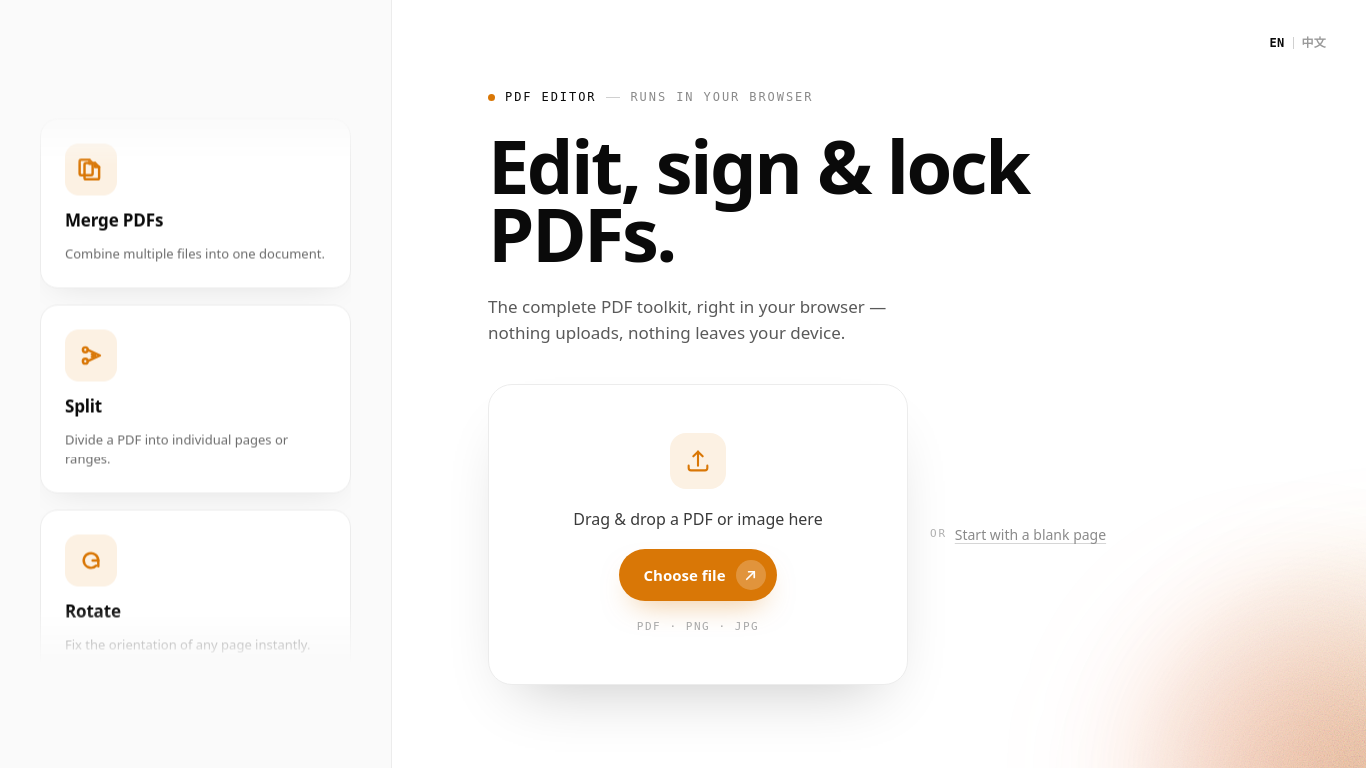
Test: Landing › switches to Chinese when 中文 toggle is clicked
Click the button "中文".
click(1314, 43)  # box [1302, 32, 1326, 54]
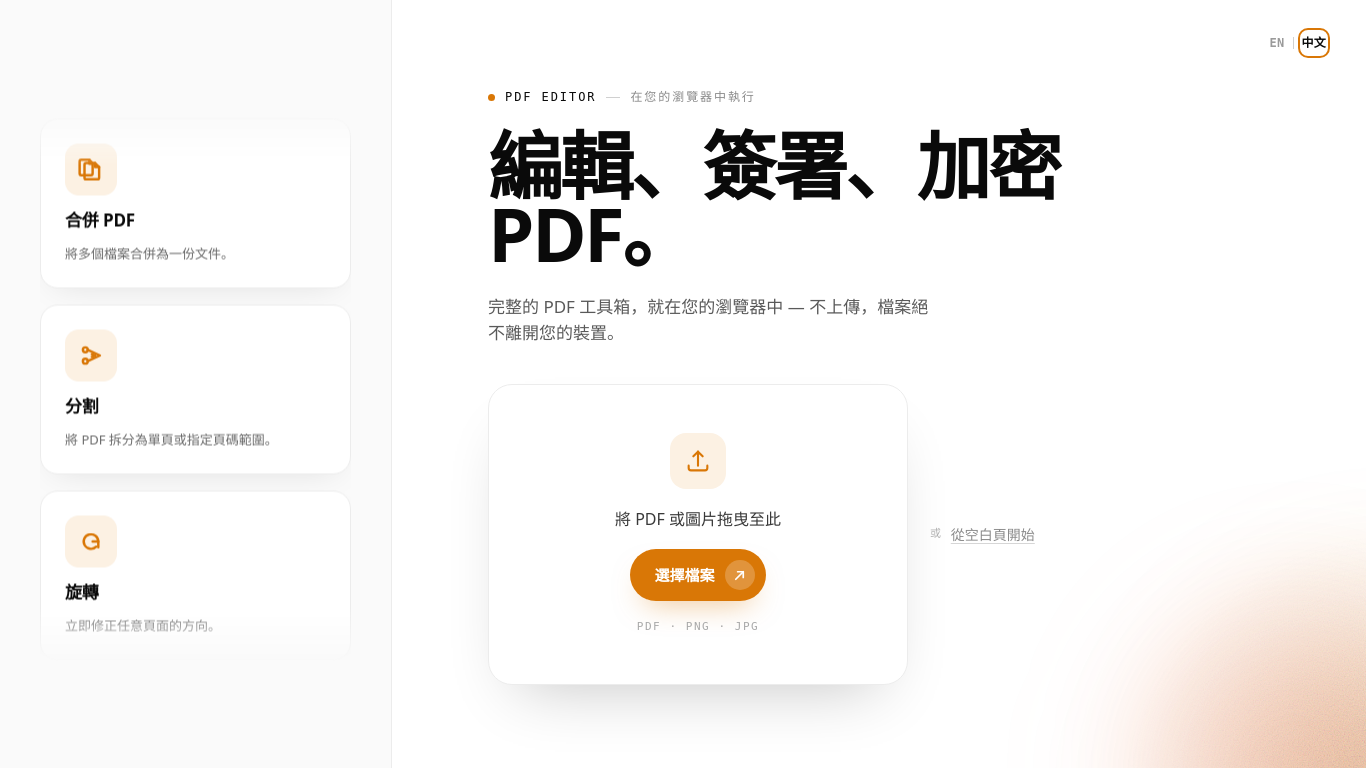
Check: the heading "編輯、簽署、加密 PDF。" is shown, box [488, 132, 1148, 268]
